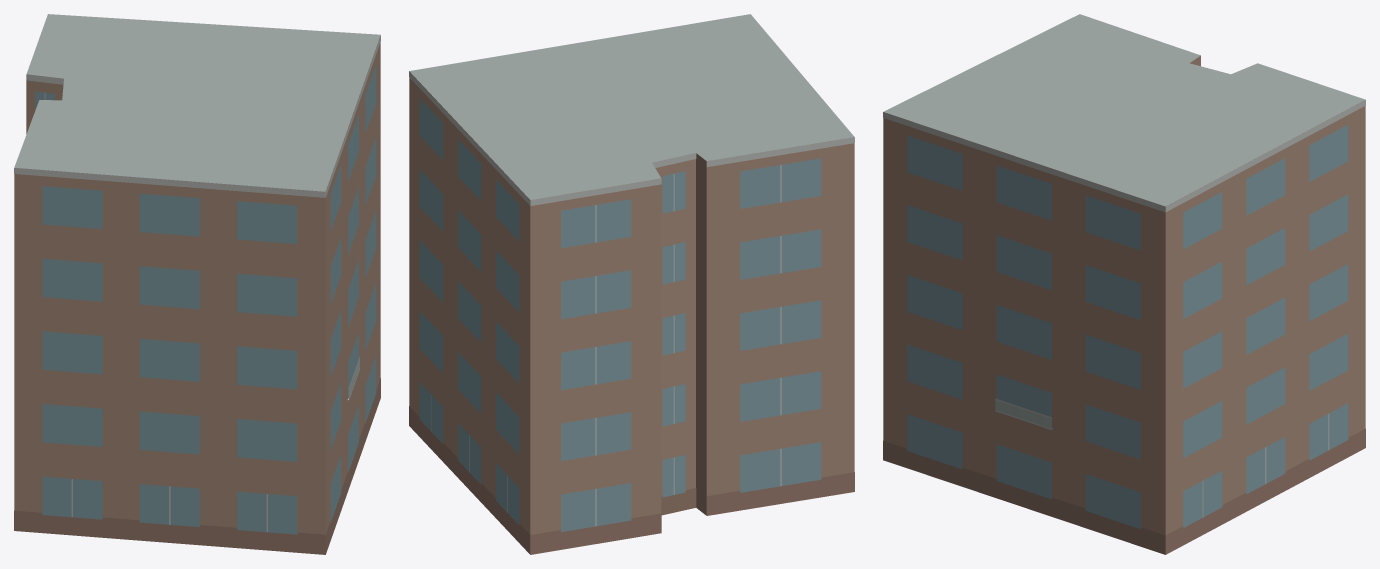
The model's file is survey-upis-32731775.glb.
3 renders of one model, left to right at view 1: azimuth 30°, elevation 25°; view 2: azimuth 150°, elevation 25°; view 3: azimuth 270°, elevation 25°, orthographic. The views are drawn at different scales.
Visible parts, largest first — view 1: survey-upis-32731775.tmp; view 2: survey-upis-32731775.tmp; view 3: survey-upis-32731775.tmp.
Boxes of the visible parts, x1=… form: survey-upis-32731775.tmp: x1=14, y1=14, x2=380, y2=554; survey-upis-32731775.tmp: x1=409, y1=14, x2=854, y2=554; survey-upis-32731775.tmp: x1=883, y1=14, x2=1365, y2=554.
Size of the model in its own units: 17.08 by 14.4 by 18.09.
